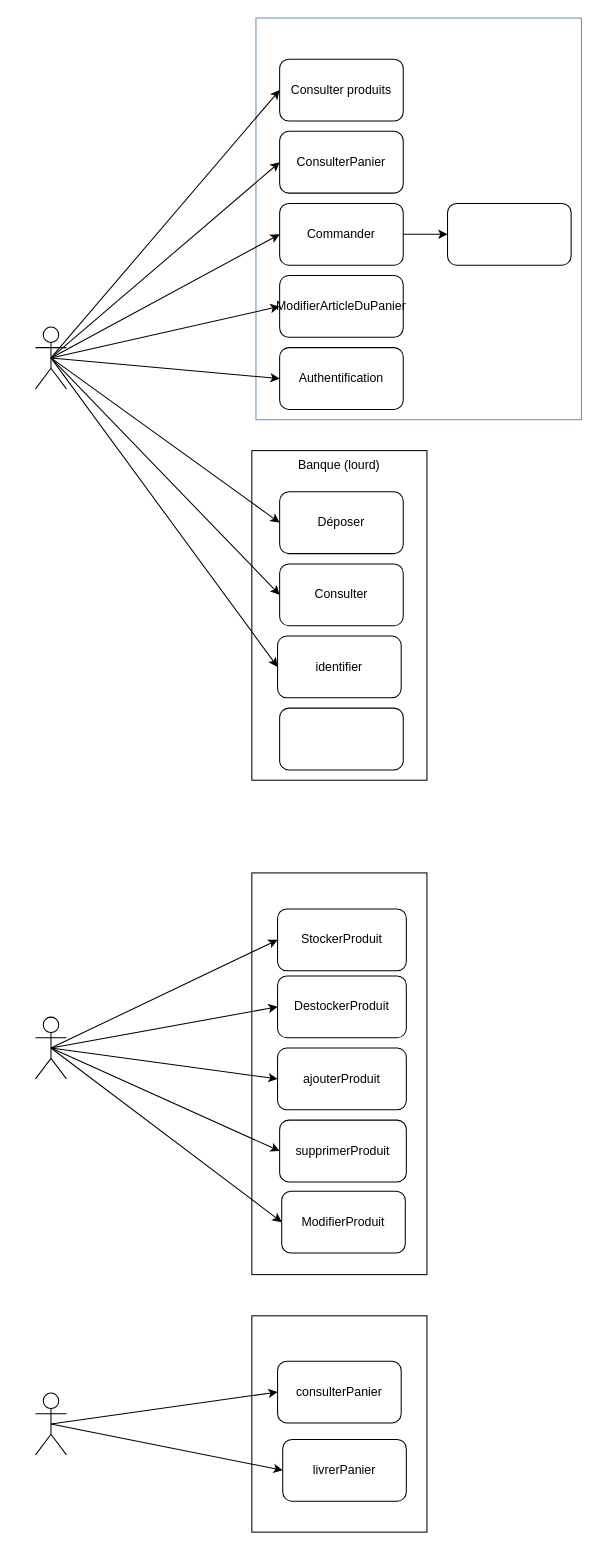
Image size: 599x1550. Some labels were removed from this diagram. Each missing label, with the box of its shape:
Appli client (leger): (255, 17, 581, 420)
Appli commerciale (leger): (251, 872, 427, 1275)
Appli Livreur (leger): (251, 1315, 427, 1532)
Client: (35, 326, 66, 389)
Commercial: (35, 1016, 66, 1079)
Facturer: (447, 202, 571, 265)
Livreur: (35, 1392, 66, 1455)
prélever: (279, 707, 403, 770)
